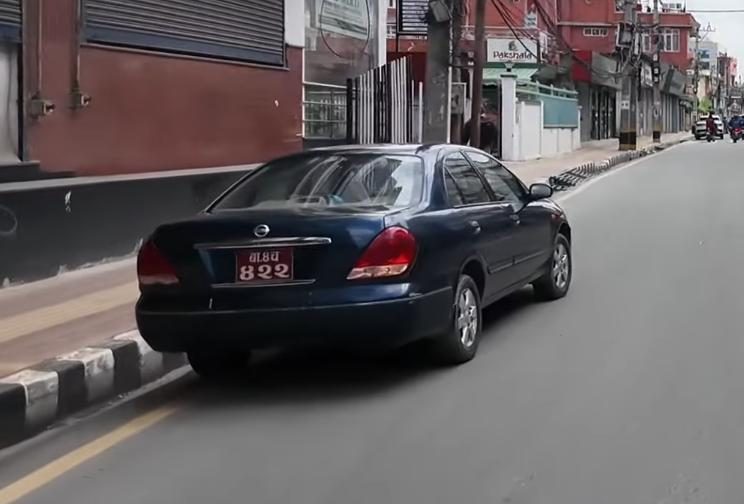car: (129, 139, 584, 363)
